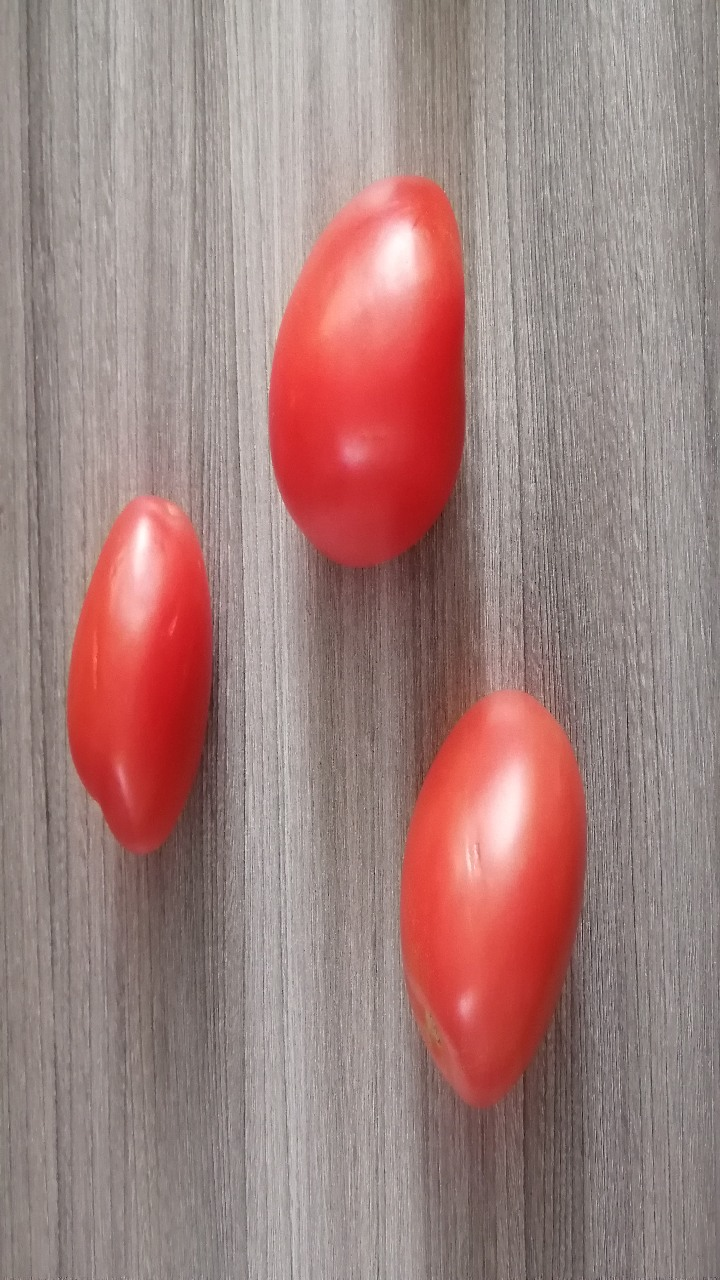tomateRojo: (241, 157, 483, 575), (378, 675, 600, 1106), (68, 479, 246, 859)
